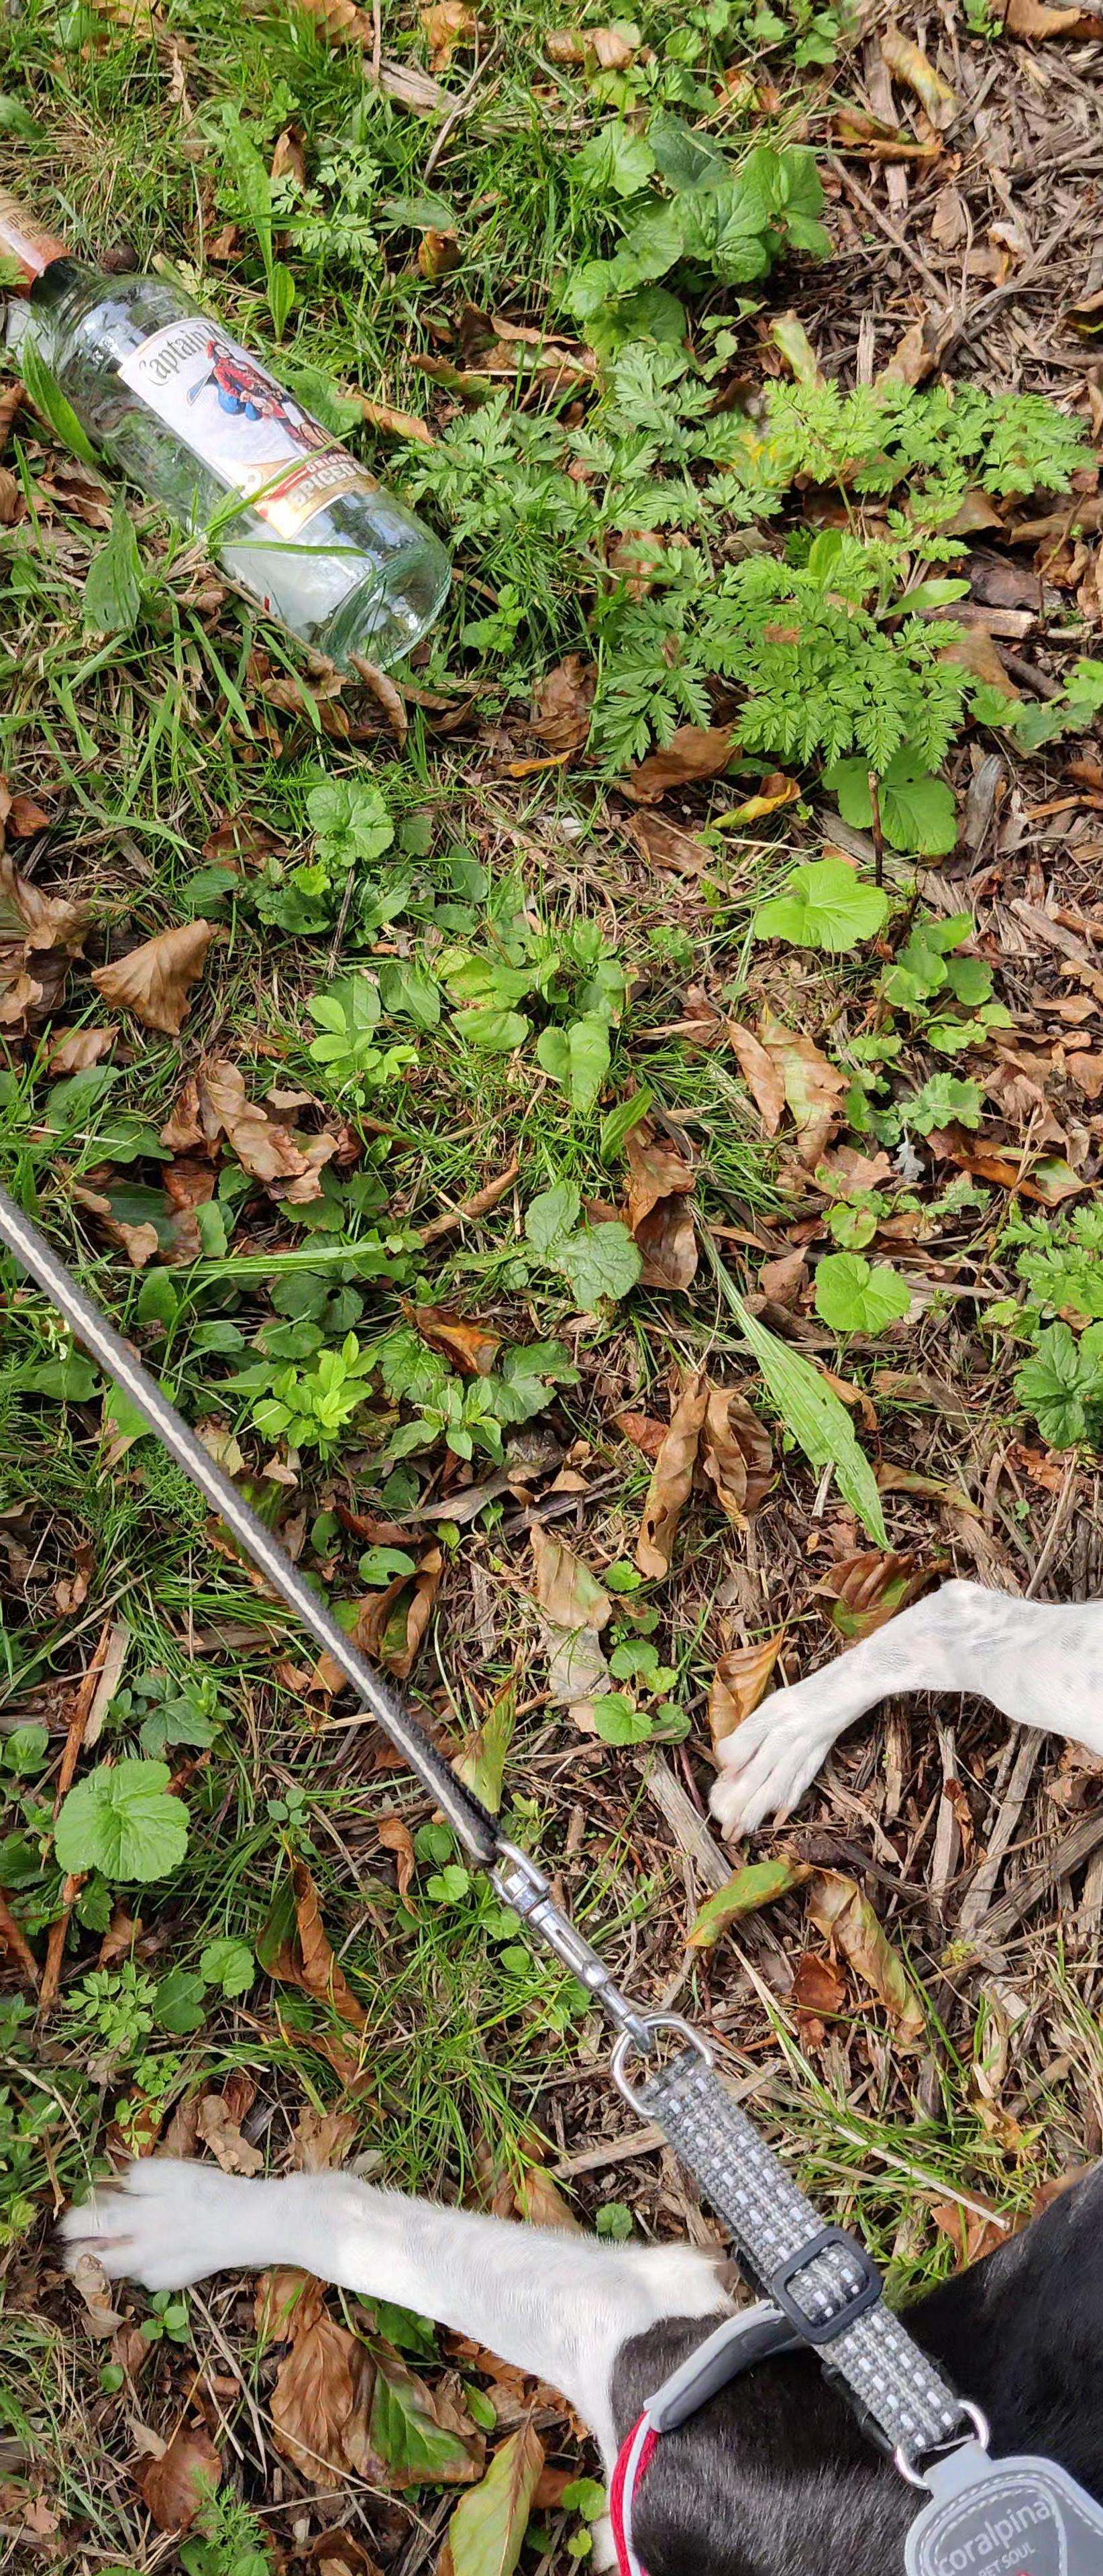Dog: (23, 1518, 1103, 2576)
